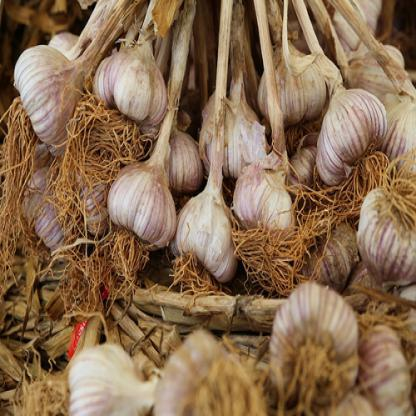garlic: (12, 46, 82, 146), (362, 175, 415, 306), (90, 31, 166, 121), (194, 84, 276, 165), (252, 37, 330, 120), (318, 99, 392, 182), (175, 181, 231, 281), (103, 158, 171, 232), (234, 169, 292, 230)
